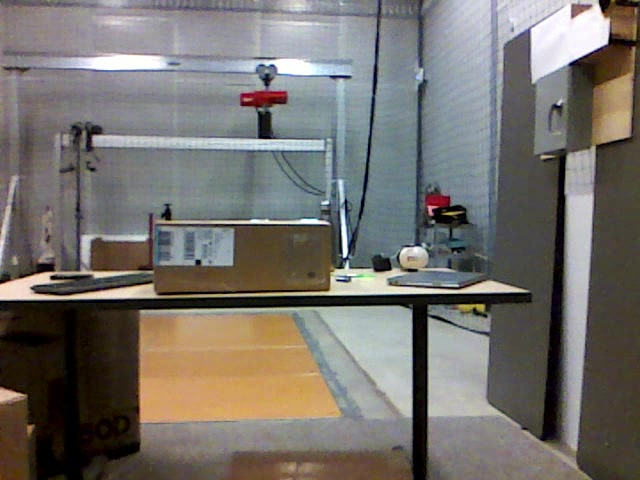box: (1, 314, 141, 471), (154, 220, 331, 293)
